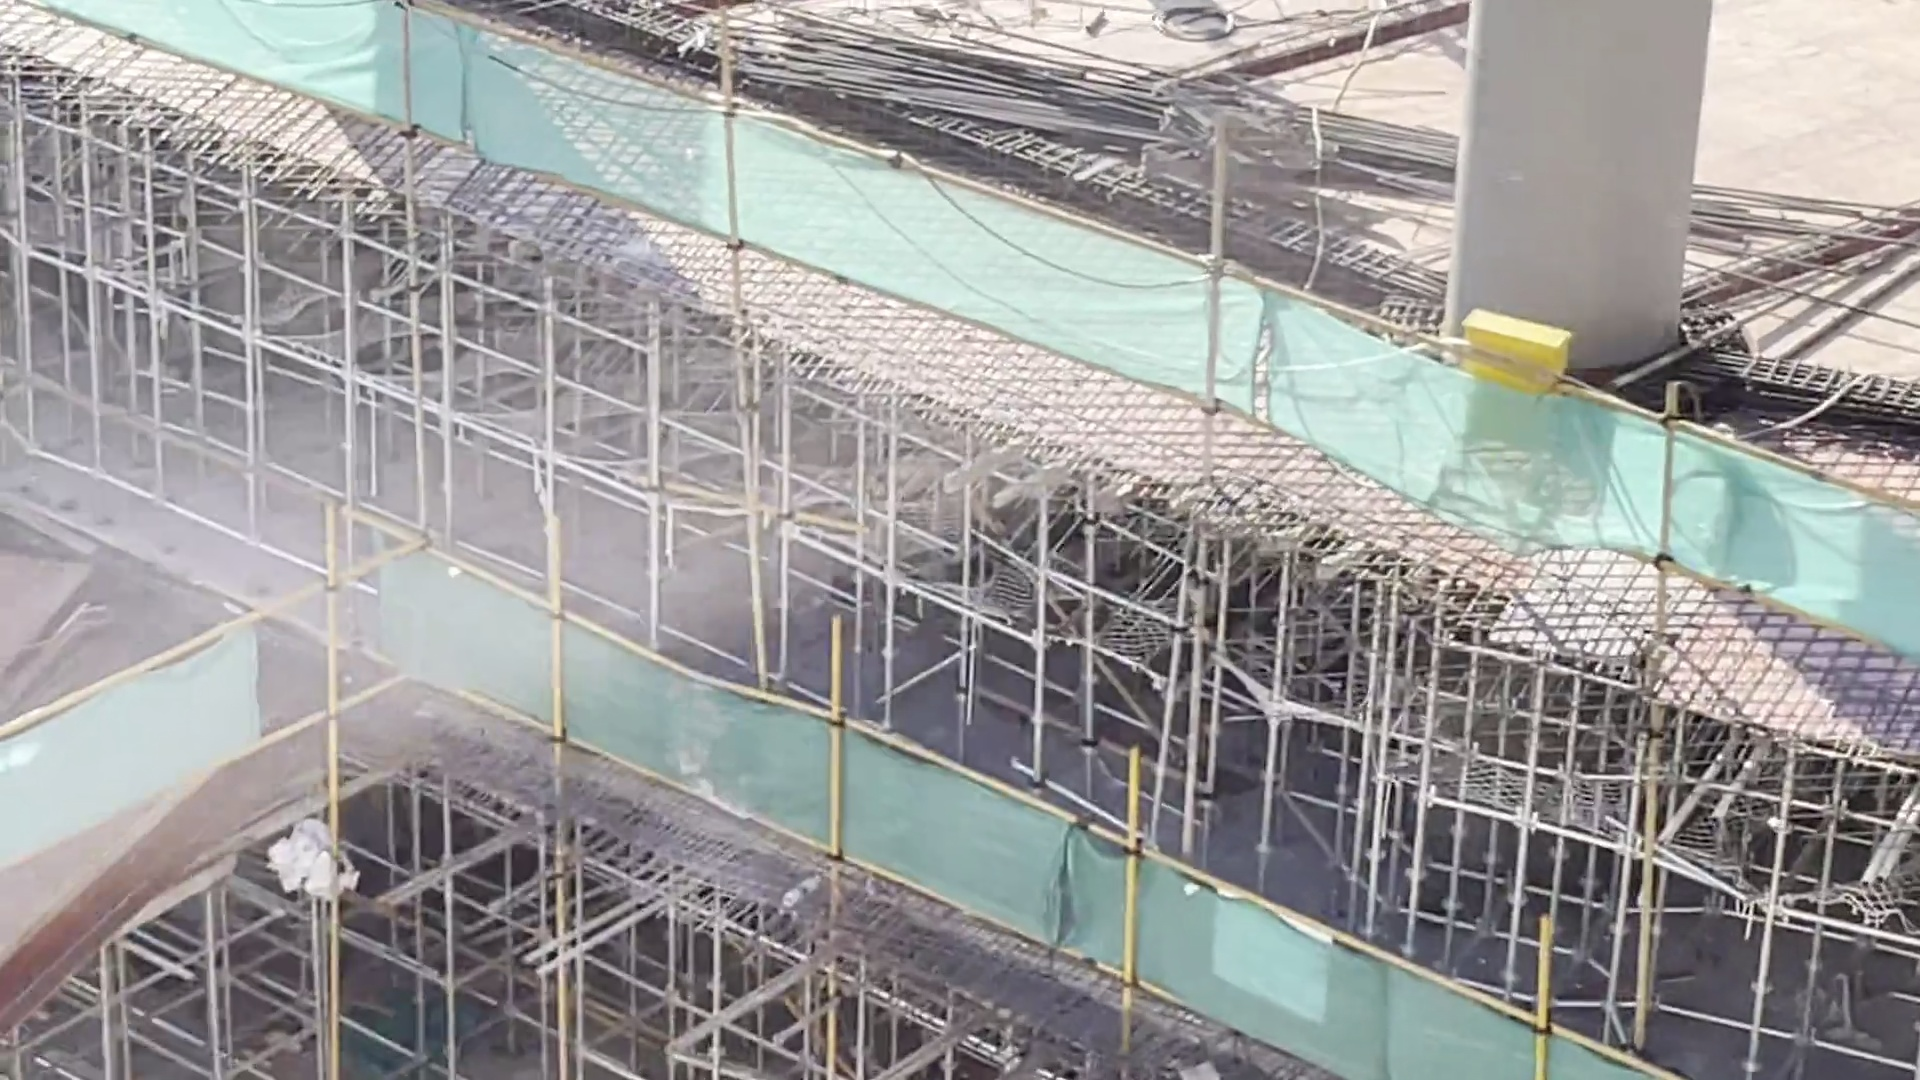ebox: (1455, 294, 1567, 473)
